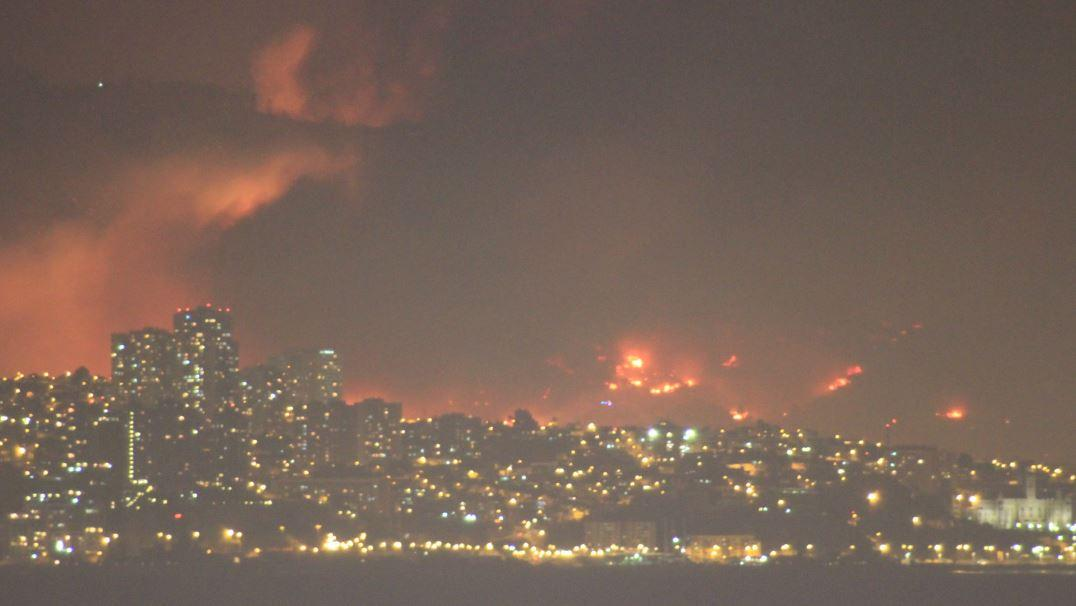Fire: (598, 344, 706, 404), (826, 357, 867, 393), (936, 403, 973, 425), (731, 408, 751, 422)
